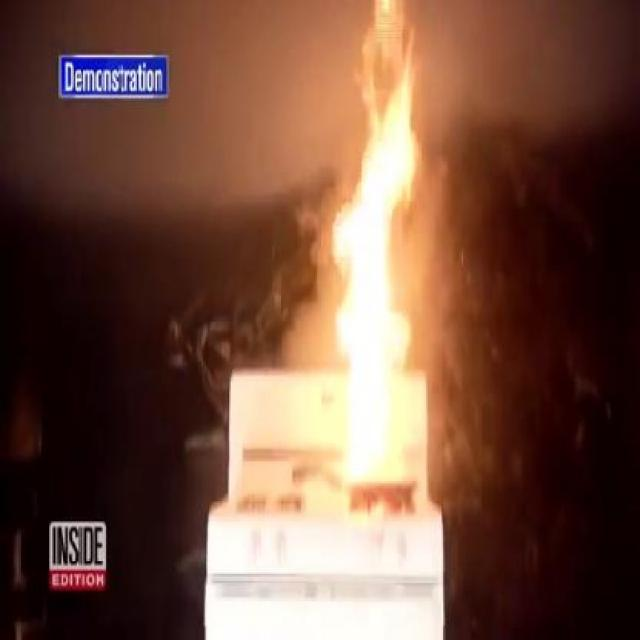fire: (334, 29, 429, 408)
